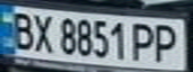1: (109, 19, 130, 60)
5: (90, 18, 112, 60)
8: (54, 15, 78, 56), (72, 16, 93, 57)
B: (6, 8, 36, 52)
P: (148, 20, 184, 64), (127, 19, 160, 62)
X: (30, 10, 57, 54)
